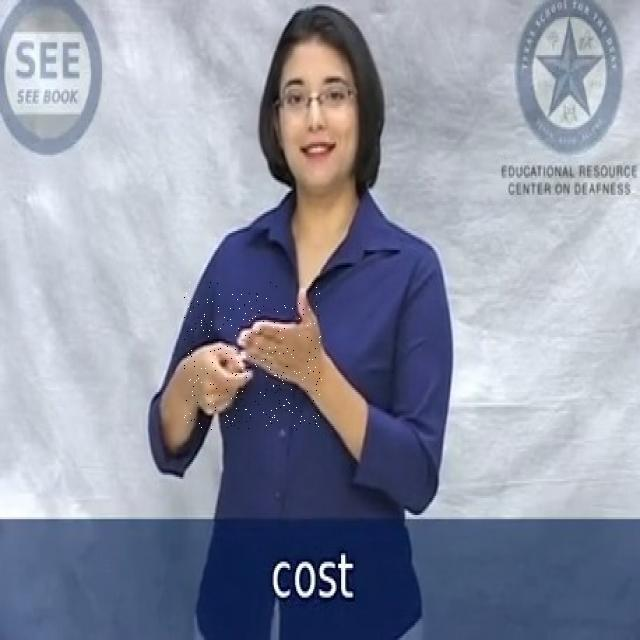cost: (184, 282, 322, 430)
